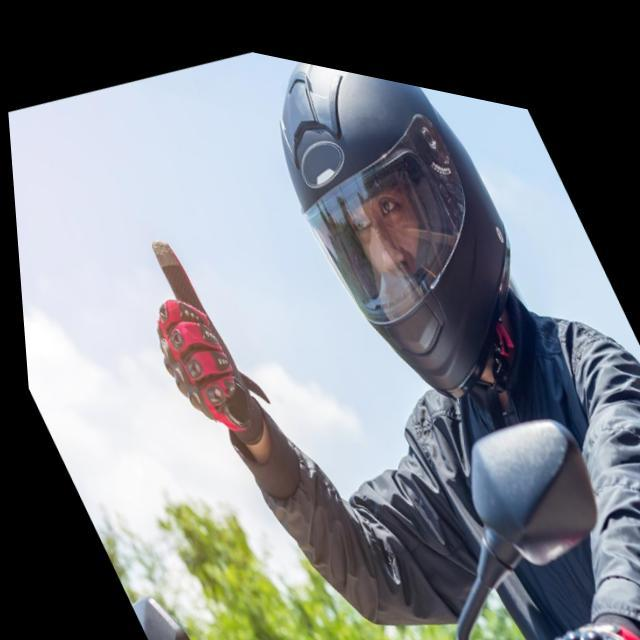Helmet: (266, 64, 513, 416)
